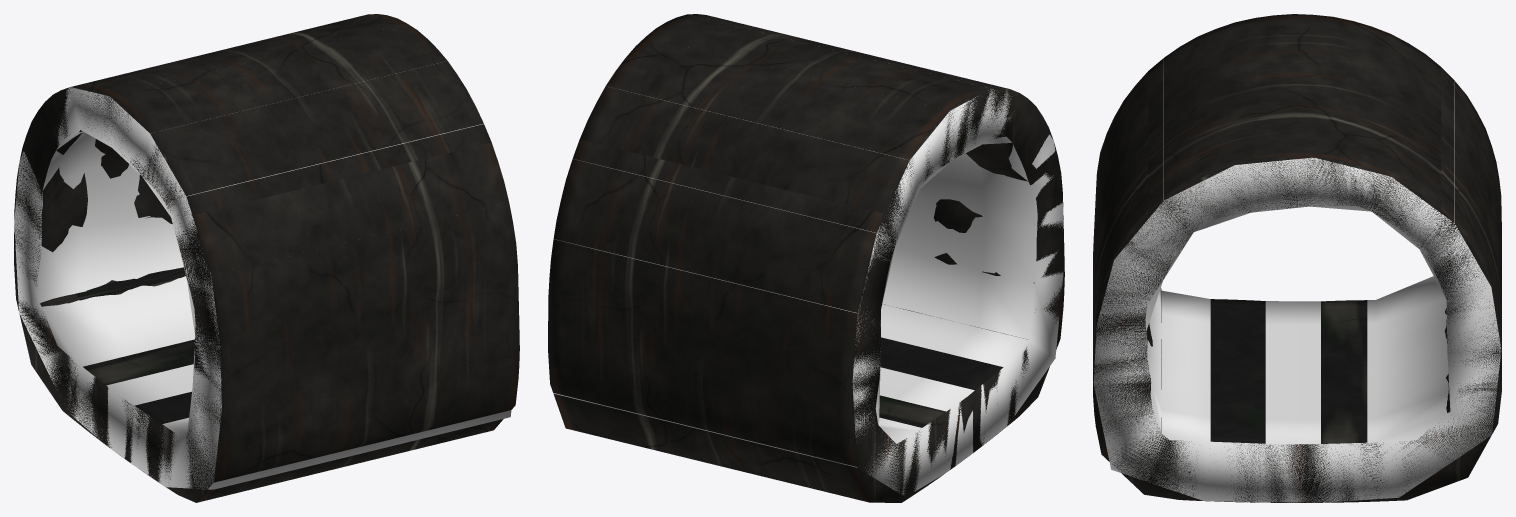
File: CAVE_Tunnel_Straight.fbx
3 renders of one model, left to right at view 1: azimuth 30°, elevation 25°; view 2: azimuth 150°, elevation 25°; view 3: azimuth 270°, elevation 25°, orthographic. The views are drawn at different scales.
Visible parts, largest first — view 1: CAVE_Tunnel_Straight_LOD0, CAVE_Tunnel_Straight_COL; view 2: CAVE_Tunnel_Straight_LOD0, CAVE_Tunnel_Straight_COL; view 3: CAVE_Tunnel_Straight_LOD0, CAVE_Tunnel_Straight_COL.
Boxes of the visible parts, x1,y1,x2,y2 form: CAVE_Tunnel_Straight_LOD0: (14,14,519,502); CAVE_Tunnel_Straight_COL: (14,87,511,489); CAVE_Tunnel_Straight_LOD0: (548,14,1064,502); CAVE_Tunnel_Straight_COL: (553,86,1063,495); CAVE_Tunnel_Straight_LOD0: (1093,14,1501,502); CAVE_Tunnel_Straight_COL: (1093,58,1501,502).
Size of what is drawn, in the model's own units: 6.18 by 7 by 7.49.
